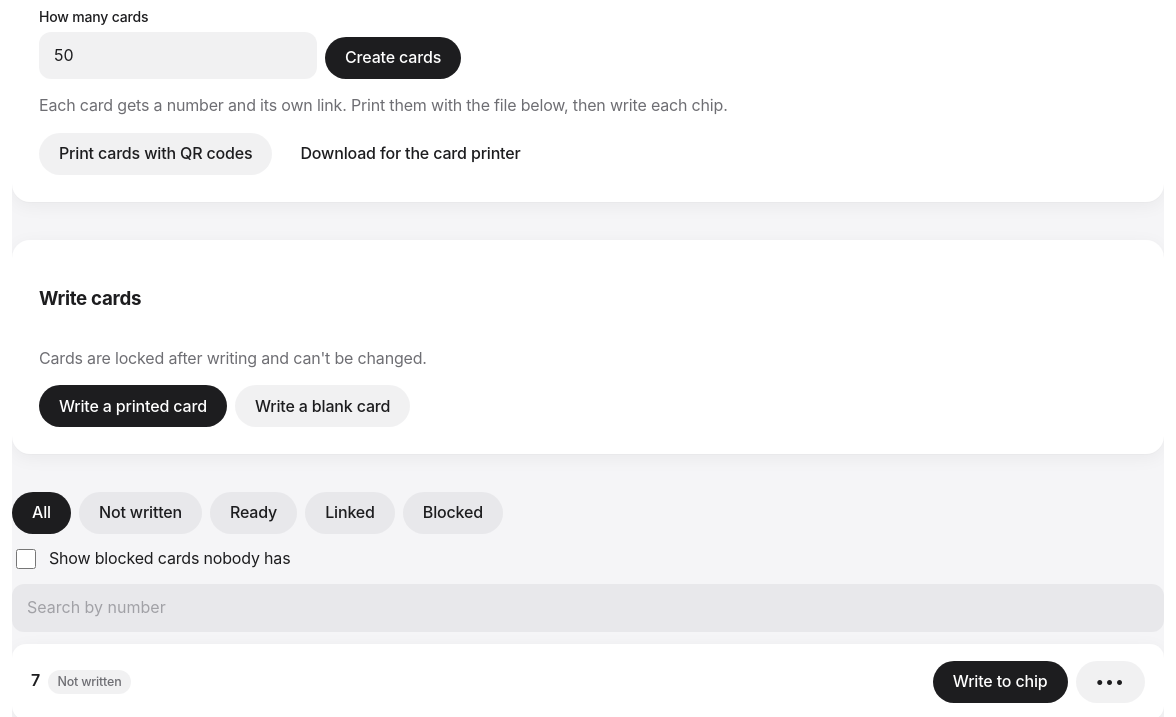
CardsTab on a phone that writes cards › writes one particular card straight from the list
(page scrolled)
What coordinates should you click on to do the following:
click the button "Write to chip"
I would click on:
 (1000, 682)
Its box is top-left (933, 660), bottom-right (1068, 702).
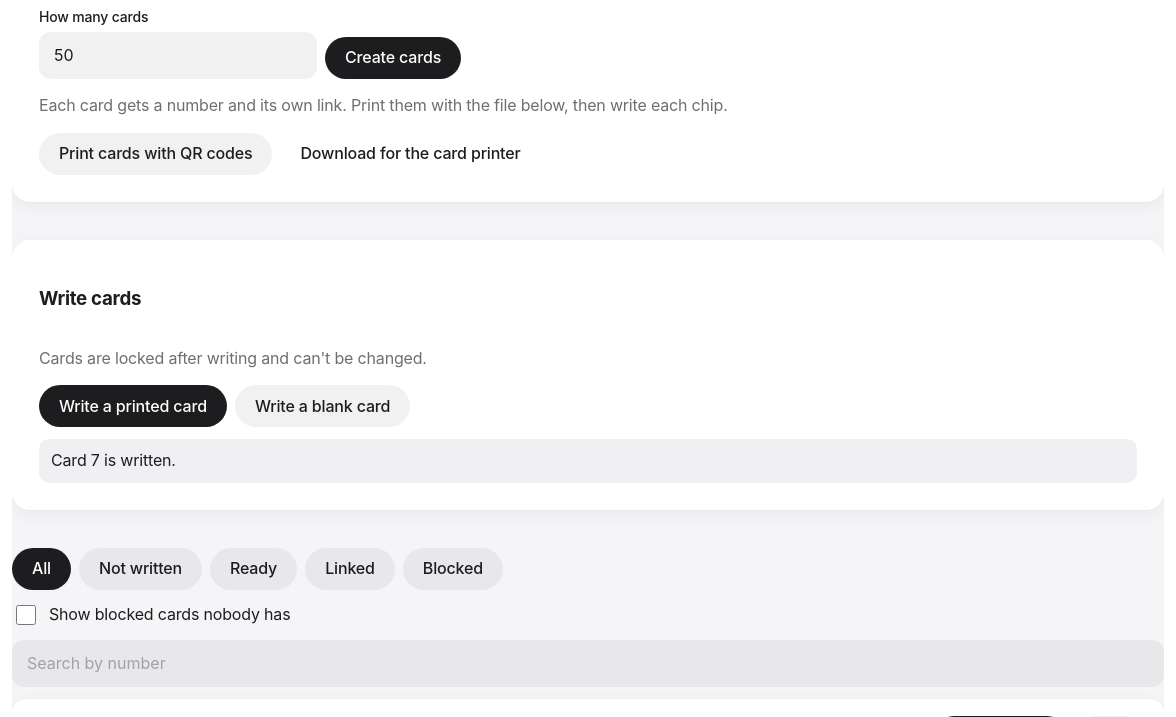
Result: the message reads "Card 7 is written." at top-left (51, 450), bottom-right (176, 470)
